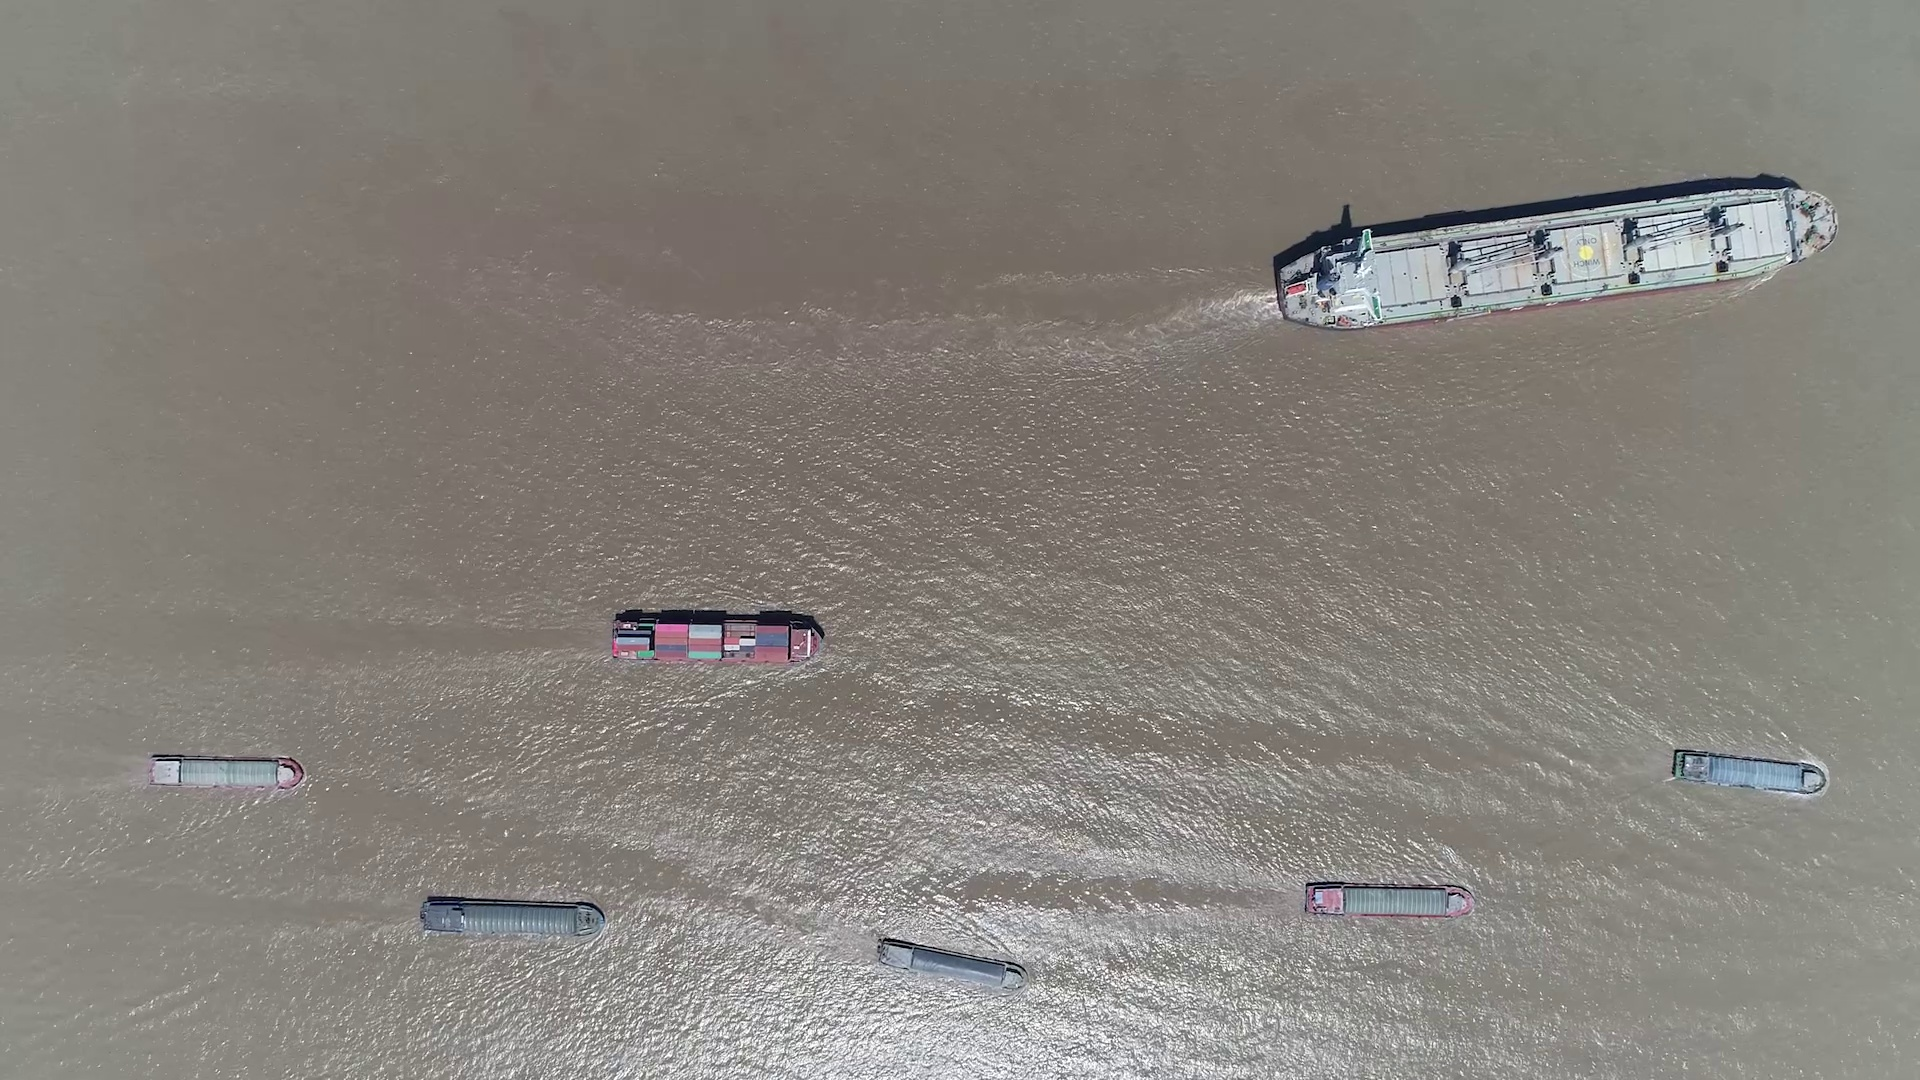ship: (1273, 186, 1840, 328), (609, 615, 823, 666), (877, 939, 1025, 990), (1672, 749, 1826, 796), (419, 898, 603, 938), (1303, 881, 1472, 919), (148, 756, 303, 790)
